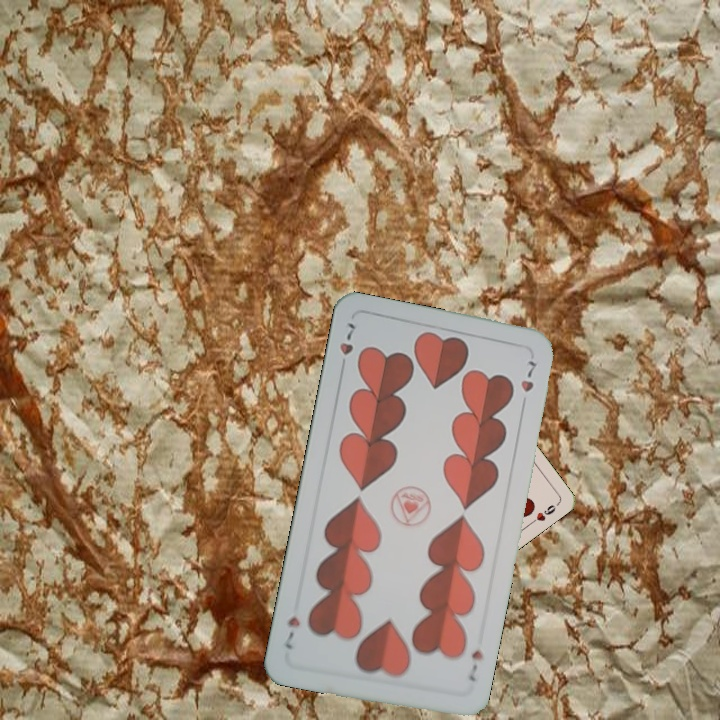H7: (335, 319, 358, 375), (464, 646, 485, 684)
